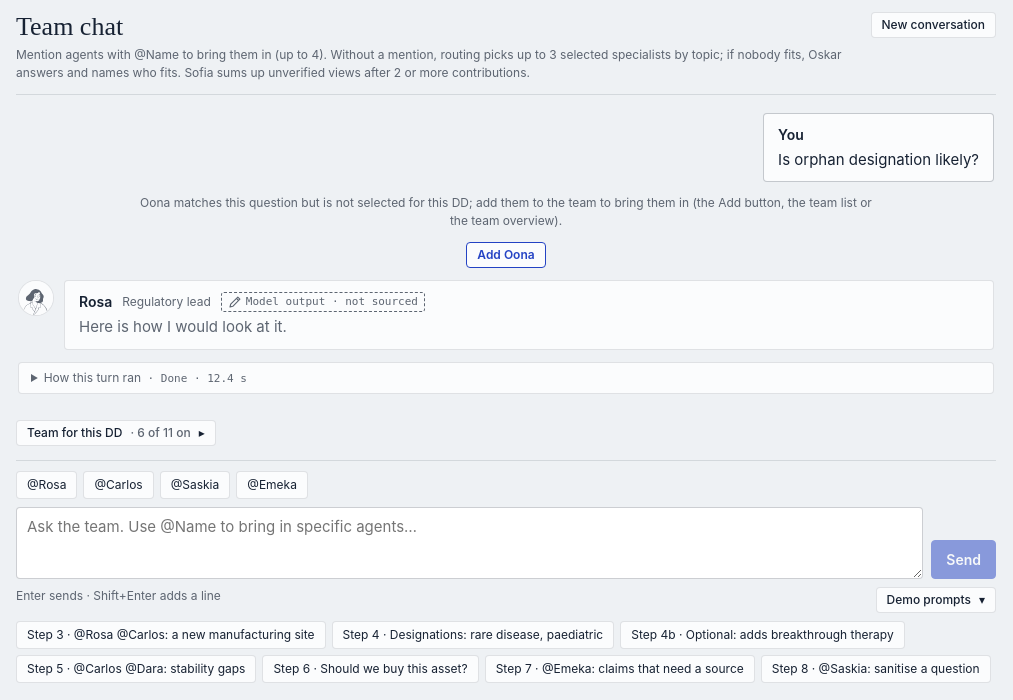
Test: ChatRoom: bringing agents onto the team from the chat › leaves the chips alone when a save fails
Click the button "Add Oona": (506, 255) [466,242,546,268]
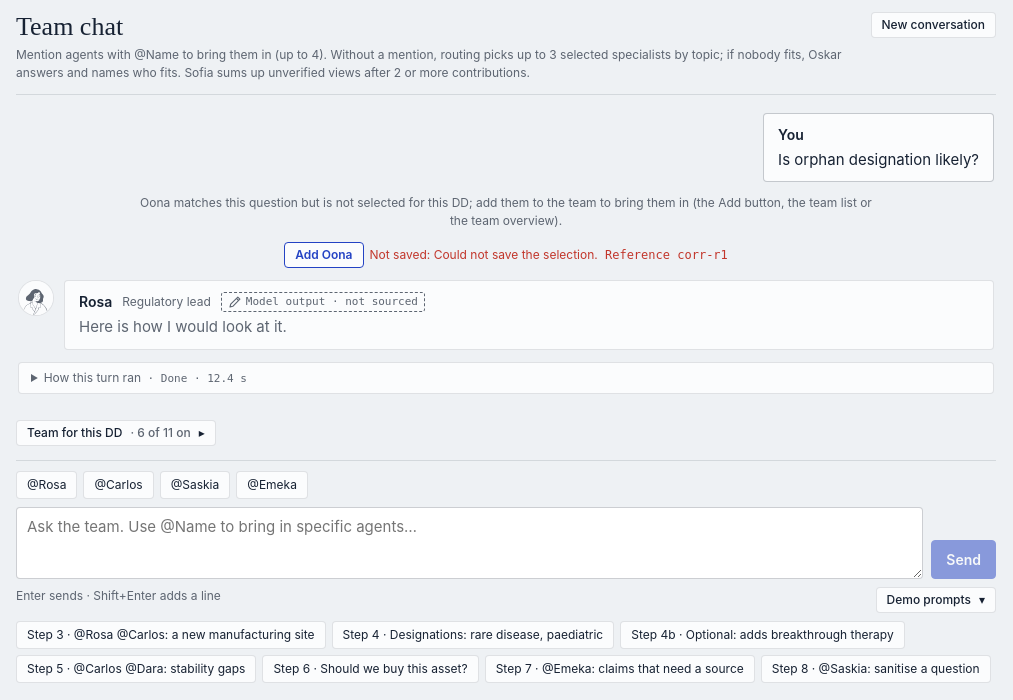
Expected: the message shows "corr-r1", [677,248,728,262]
